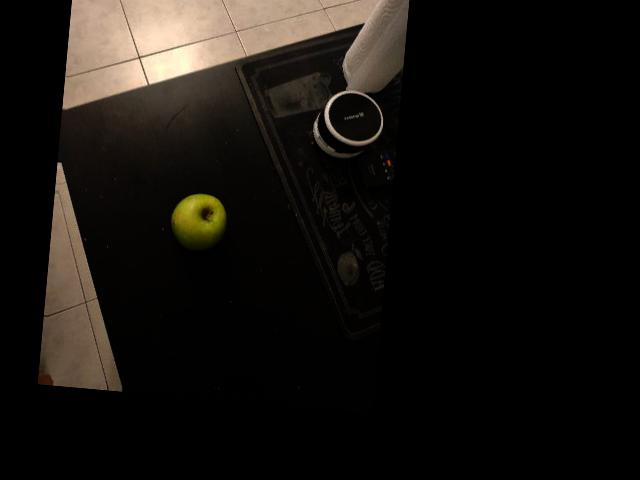apple: (83, 46, 173, 131)
